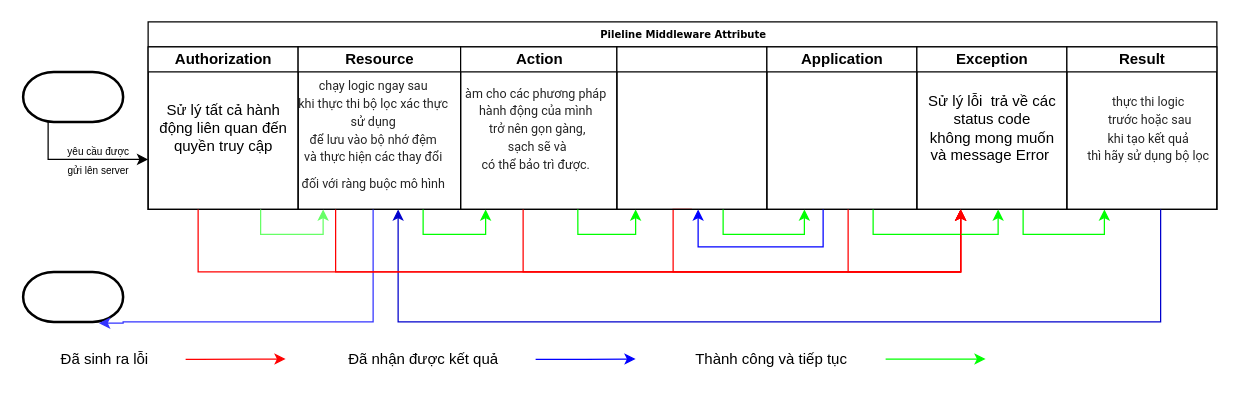
Some shapes in this 1239 by 394 pixel diagram are drawn without their labels. The centre of each missing label's shape, as x and y in pixels:
"Begin Request" belongs at (72,96).
"Controller" belongs at (691,127).
"End Response" belongs at (72,296).
